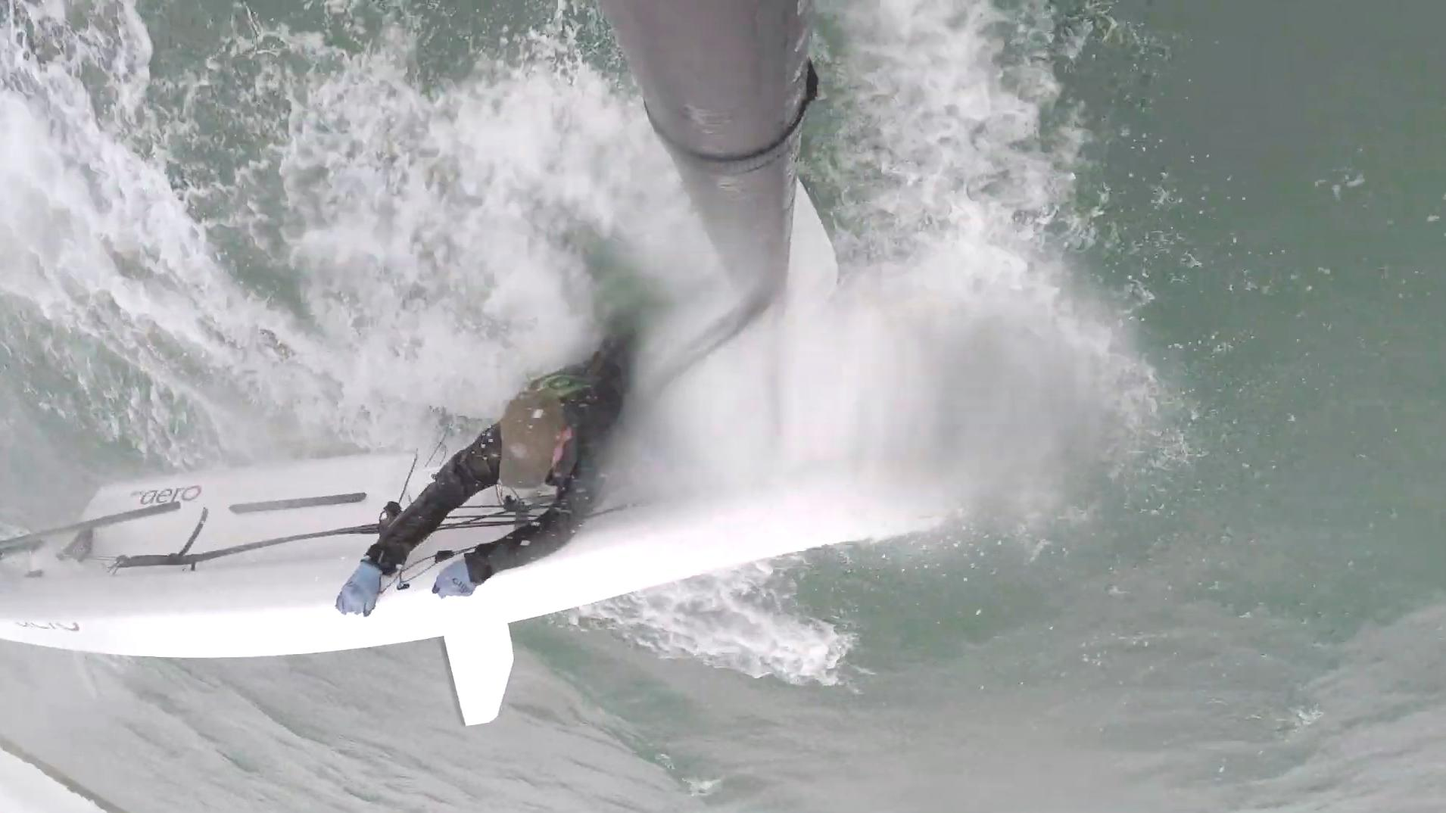boat: (0, 0, 943, 727)
land: (0, 734, 130, 813)
person: (337, 335, 631, 615)
sea: (0, 0, 1446, 813), (0, 0, 768, 531)
sky: (0, 746, 105, 813)
